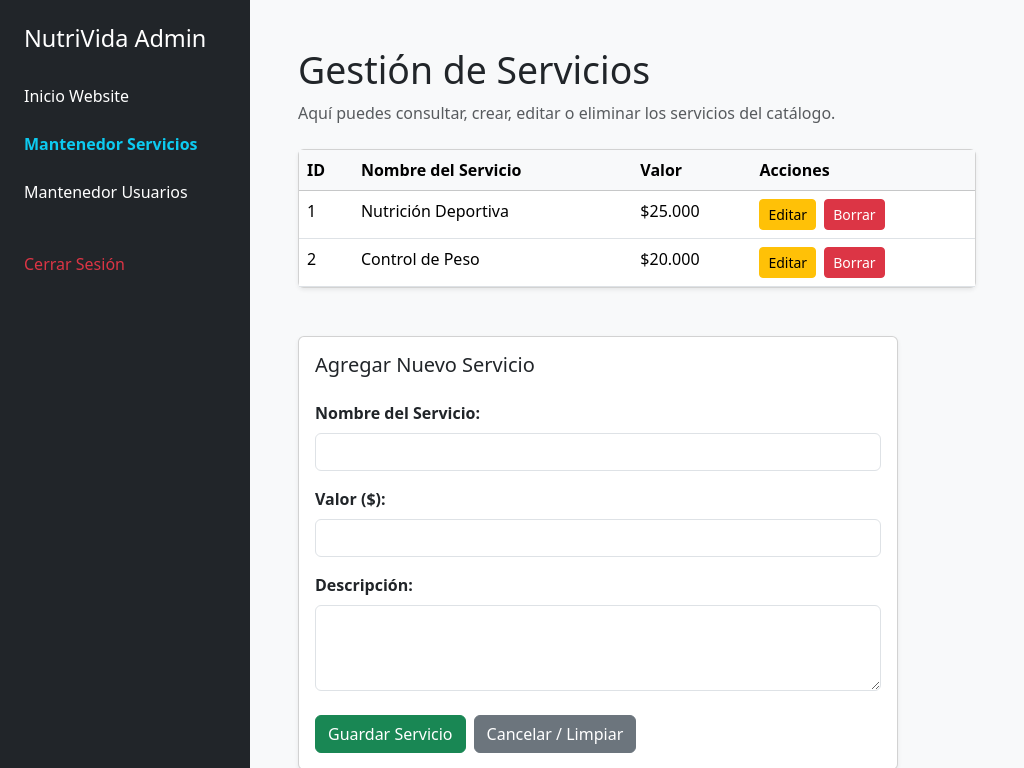
Test: 18. UPDATE: Permite editar un servicio existente
Click the button with test id "btn-editar-1" at (788, 214), box [759,199,816,230]
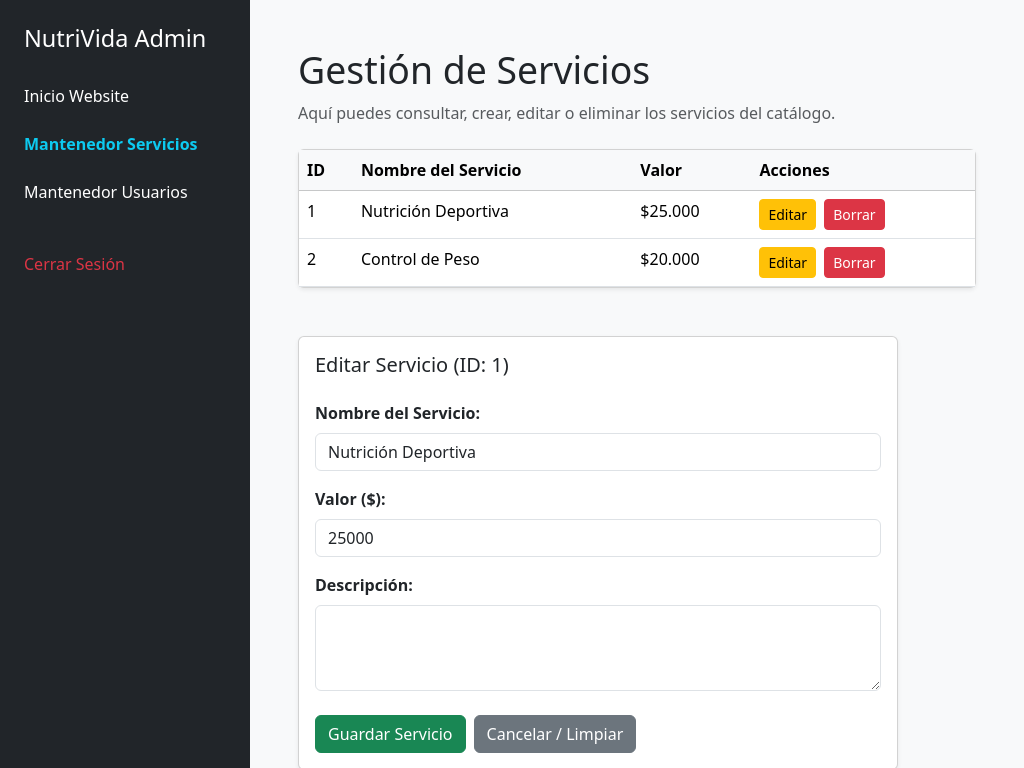
Replace the text in the field labelled "Nombre del Servicio:" with "Nutrición Deportiva Avanzada" at (598, 452), box [315,433,881,471]
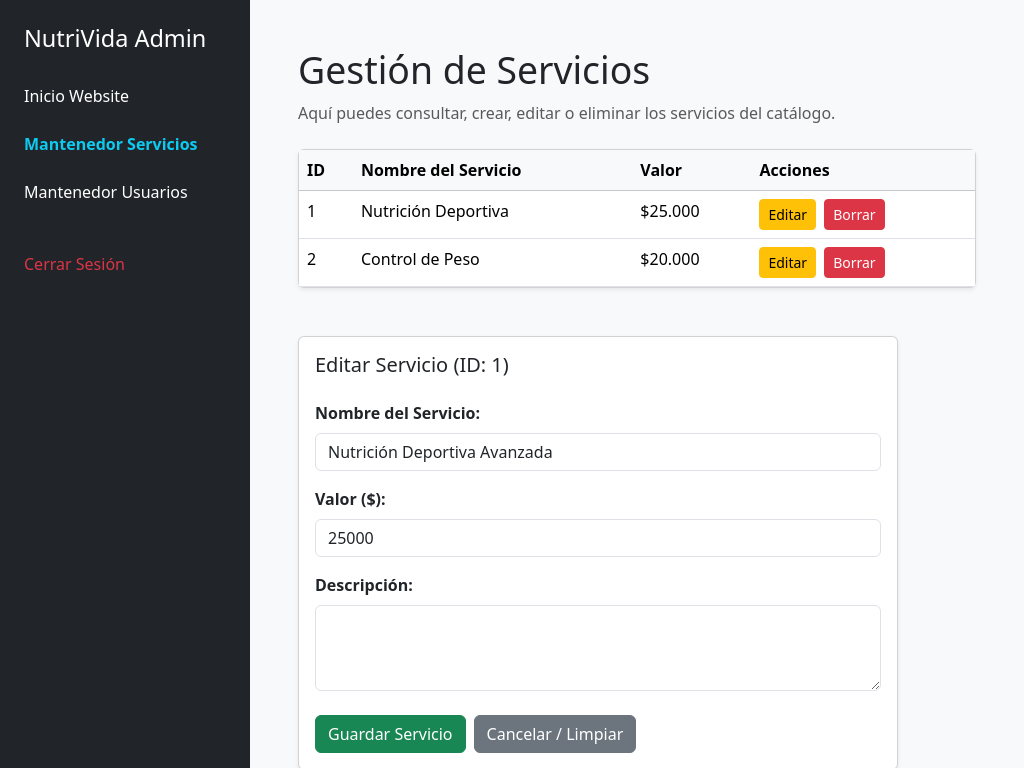
Click the button "Guardar Servicio" at (390, 734), box [315,715,466,753]
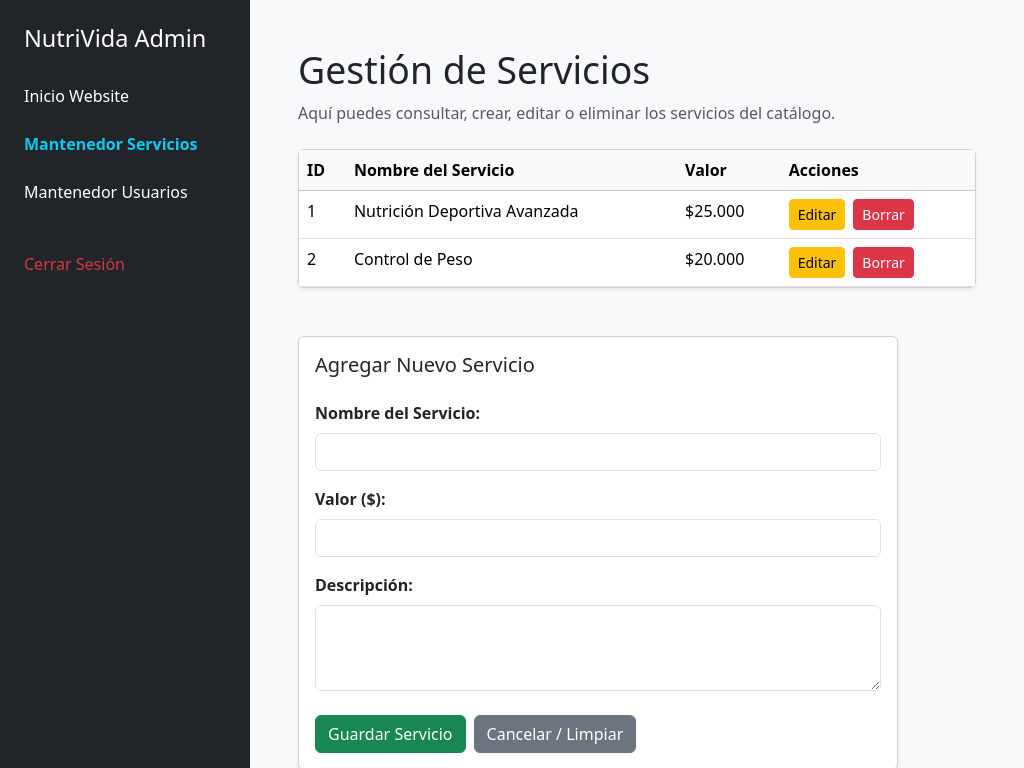
Result: the cell with test id "nombre-servicio-1" reads "Nutrición Deportiva Avanzada" at [354,200,578,222]
